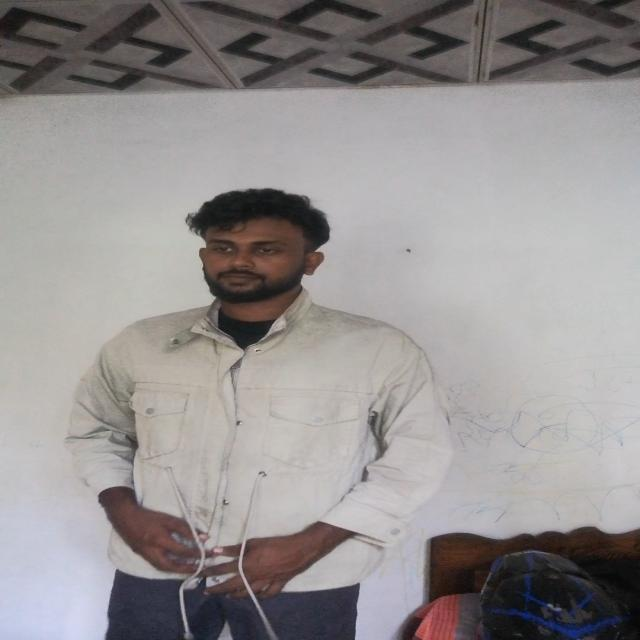Jacket_Wearer: (71, 294, 452, 592)
Person: (73, 175, 434, 640)
